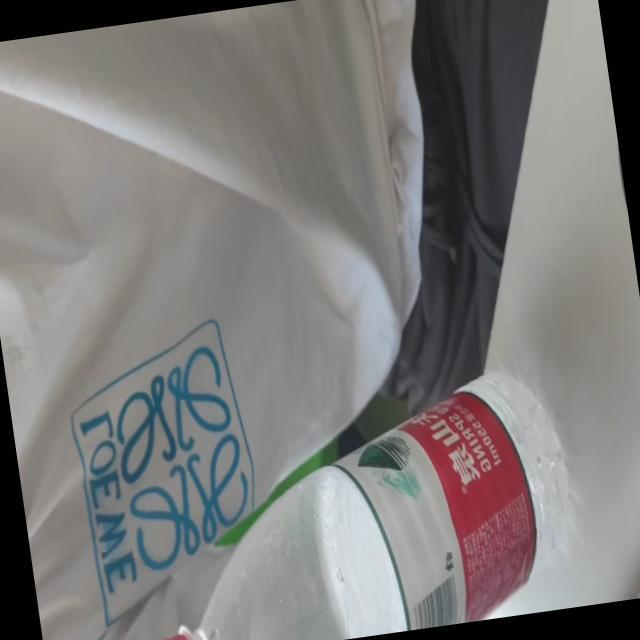good: (97, 354, 601, 640)
